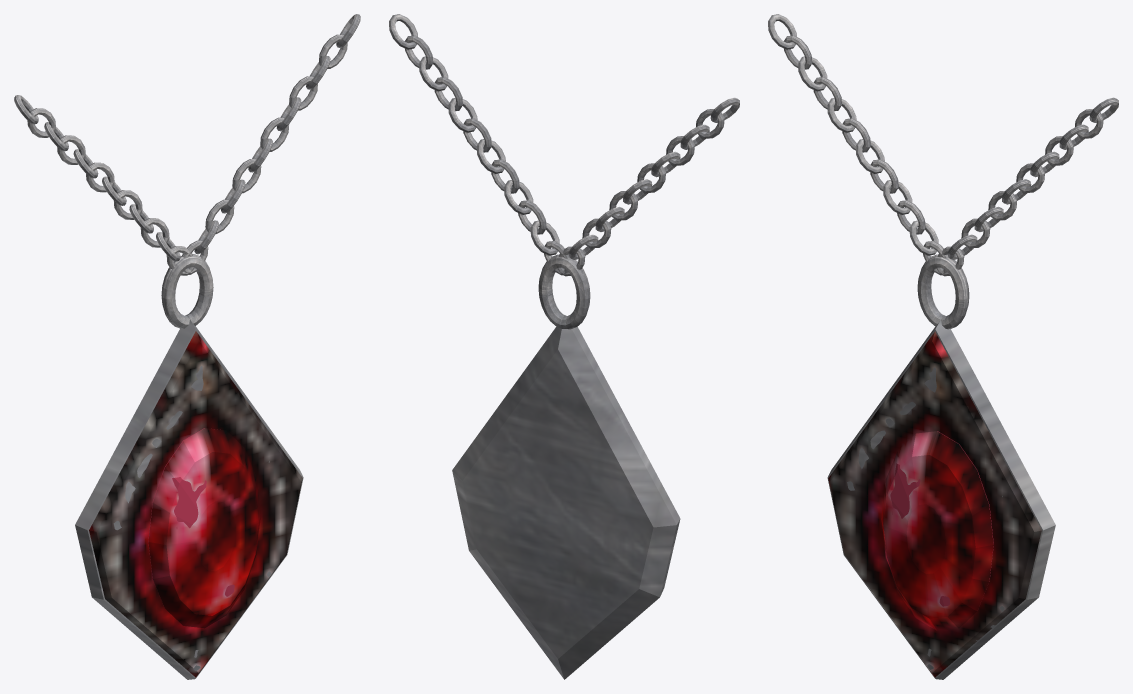
The model's file is amulet_ruby.obj.
3 renders of one model, left to right at view 1: azimuth 30°, elevation 25°; view 2: azimuth 150°, elevation 25°; view 3: azimuth 330°, elevation 25°, orthographic.
Parts seen in each view (by area): view 1: painted_setting, raised_gem, pendant_back, bail, raised_gem_undercoat; view 2: pendant_back, bail; view 3: painted_setting, raised_gem, pendant_back, bail, raised_gem_undercoat.
Part boxes in pixels (box(x1,y1,x2,y2)): painted_setting: box(89, 331, 302, 677); raised_gem: box(148, 428, 260, 628); pendant_back: box(75, 315, 303, 679); bail: box(161, 254, 213, 328); raised_gem_undercoat: box(148, 428, 234, 605); pendant_back: box(452, 315, 680, 679); bail: box(538, 254, 590, 329); painted_setting: box(828, 331, 1041, 677); raised_gem: box(881, 431, 993, 630); pendant_back: box(827, 315, 1055, 679); bail: box(917, 254, 969, 329); raised_gem_undercoat: box(890, 431, 993, 606).
Size of the model in its own units: 65.09 by 112 by 9.51.
Materials: 2 (2 with a texture image).
